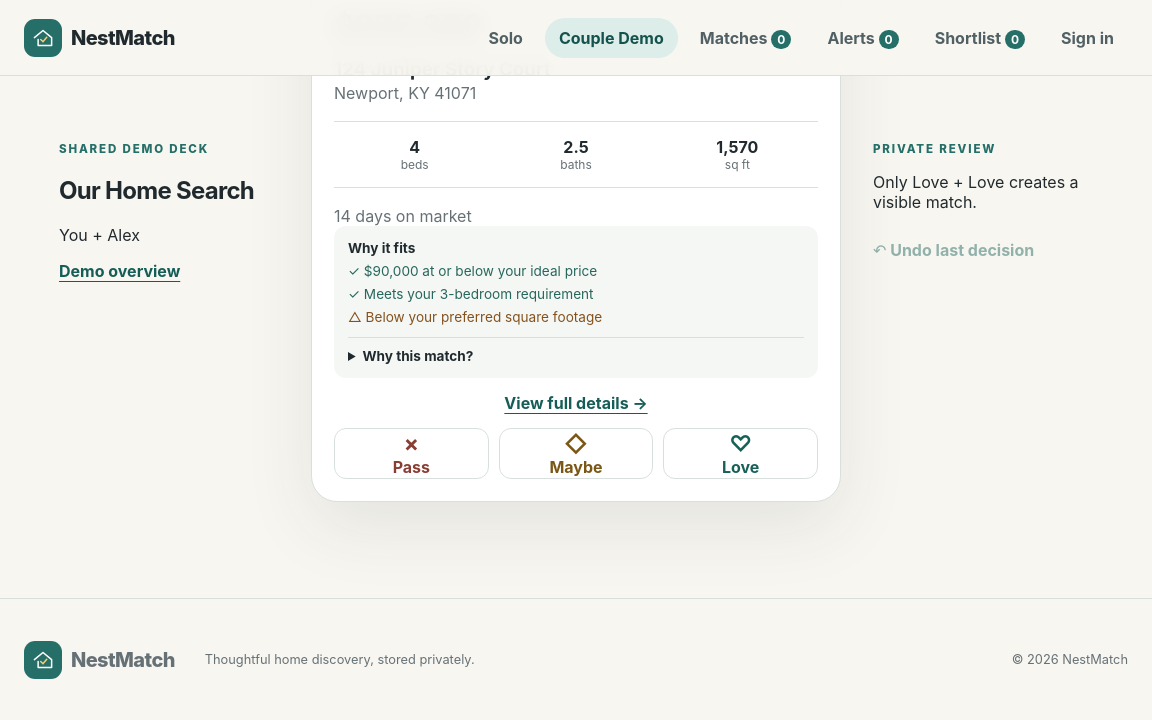
Test: creates an accessible celebration and local notification
(page scrolled)
Click the button "♡ Love": (741, 454) [663,428,818,479]
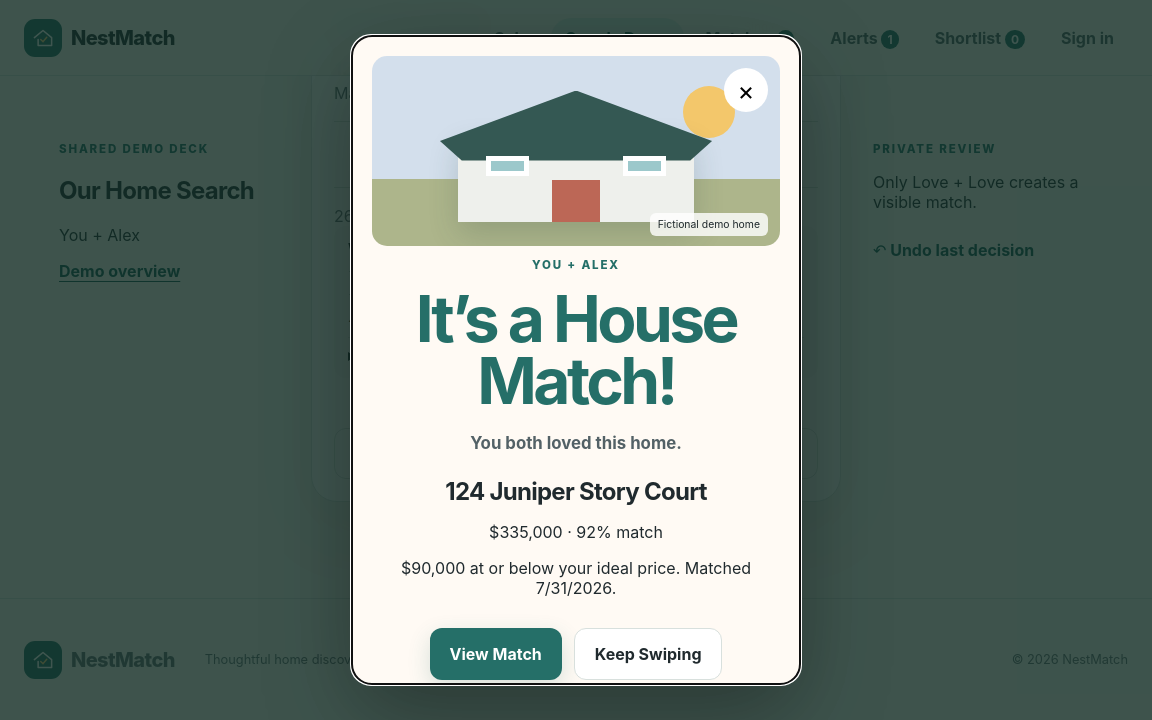
Now the text "You both loved this home." is shown, box [470,433,682,453]
Click the button "Keep Swiping": (648, 654) [574,628,722,680]
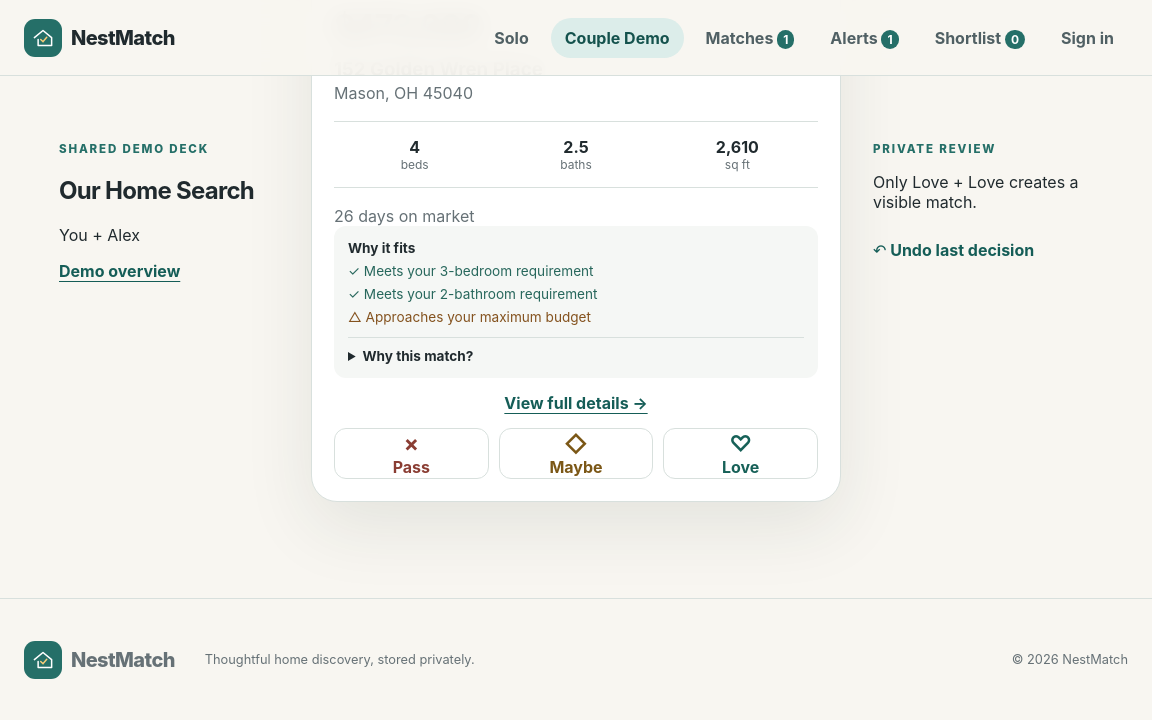
Now the dialog is gone
